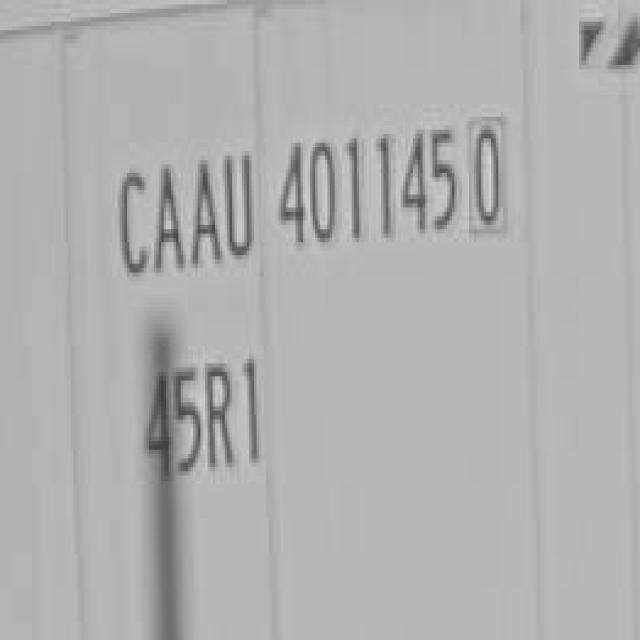dv: (464, 107, 513, 246)
owner: (106, 118, 257, 282)
serial: (273, 102, 460, 262)
size: (140, 338, 274, 489)
